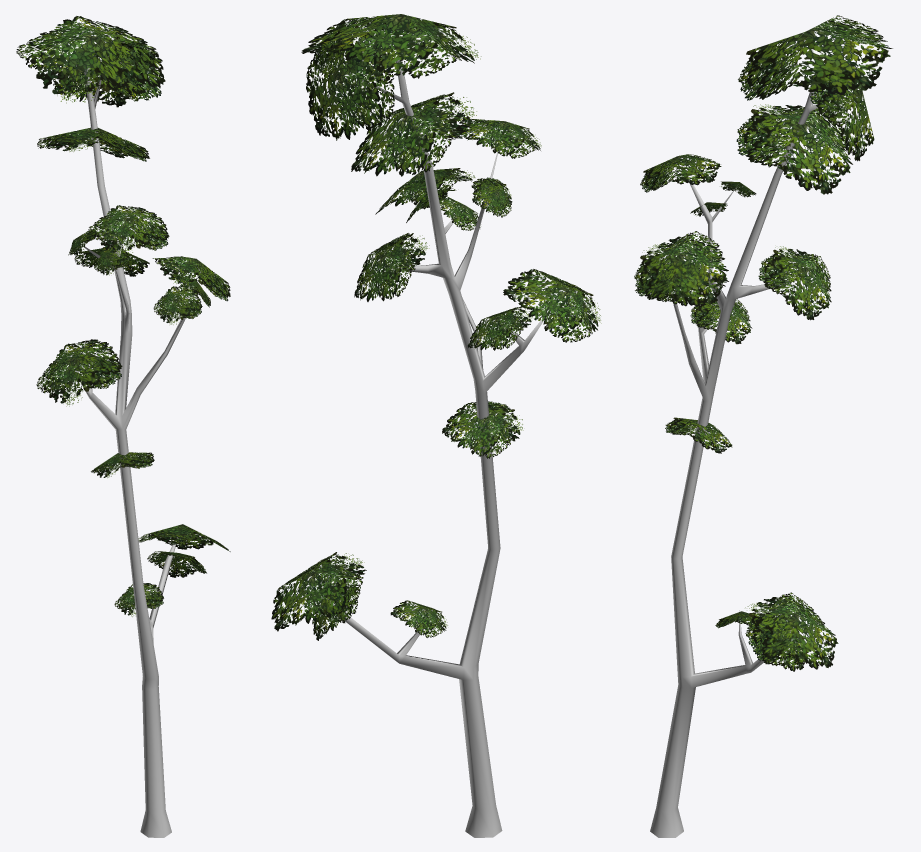
Rendered from Momo_Tree_DeadPine1.fbx.
3 views of the same model, side by side, from view 1: azimuth 30°, elevation 25°; view 2: azimuth 150°, elevation 25°; view 3: azimuth 270°, elevation 25° (orthographic). The views are drawn at different scales.
Visible parts, largest first — view 1: Momo_Tree_Dead1; view 2: Momo_Tree_Dead1; view 3: Momo_Tree_Dead1.
Boxes of the visible parts, x1=… form: Momo_Tree_Dead1: x1=16, y1=16, x2=230, y2=837; Momo_Tree_Dead1: x1=271, y1=14, x2=601, y2=837; Momo_Tree_Dead1: x1=634, y1=15, x2=892, y2=837.
Bounding box in the file's own units: 973 × 3005 × 925.
